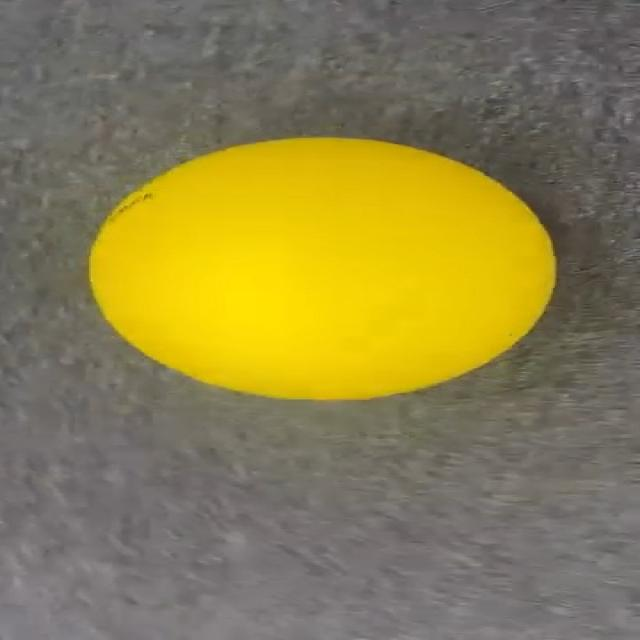Fuels: (92, 139, 553, 399)
